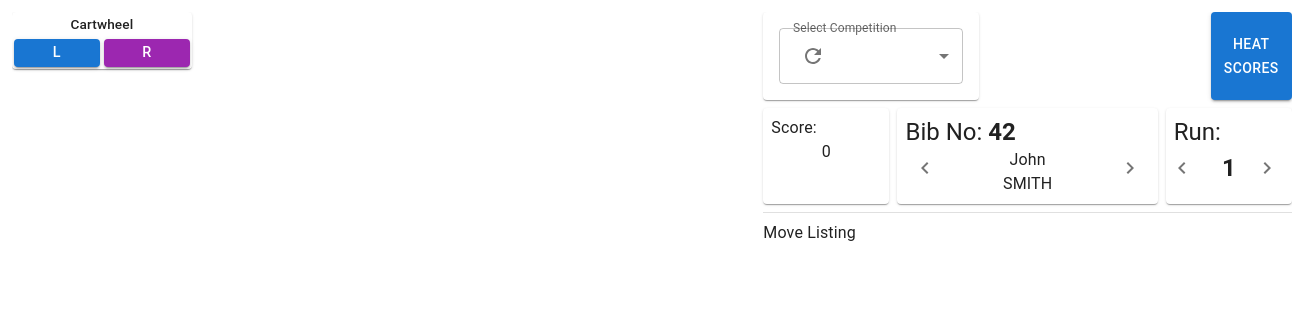
Test: Scribe › records a move on the judge's screen when its direction is tapped
What coordinates should you click on to do the following:
click the button with test id "button-test-move-1-l"
I would click on:
 (57, 53)
Its box is [14,39,100,67].
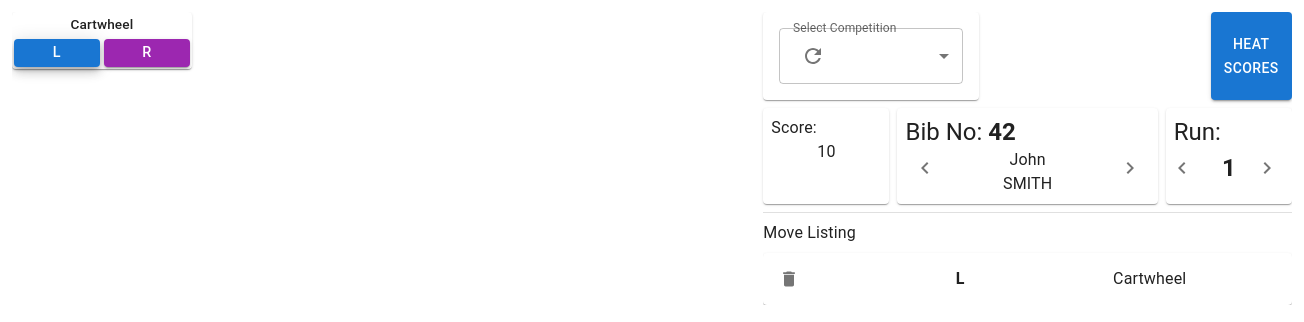
Now the text "Cartwheel" below "Move Listing" is shown, box [1113,269,1186,288]
Now the text "L" is shown, box [956,267,965,291]
